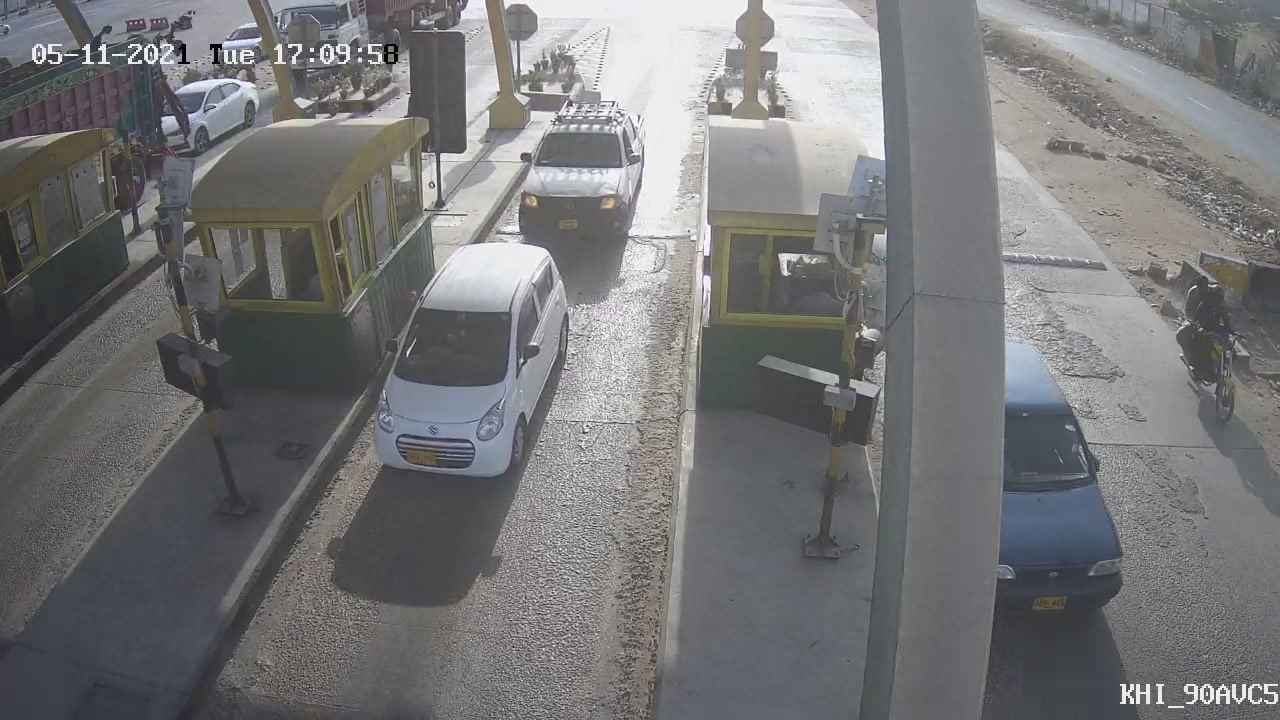F1: (350, 221, 600, 499), (504, 75, 663, 252)
